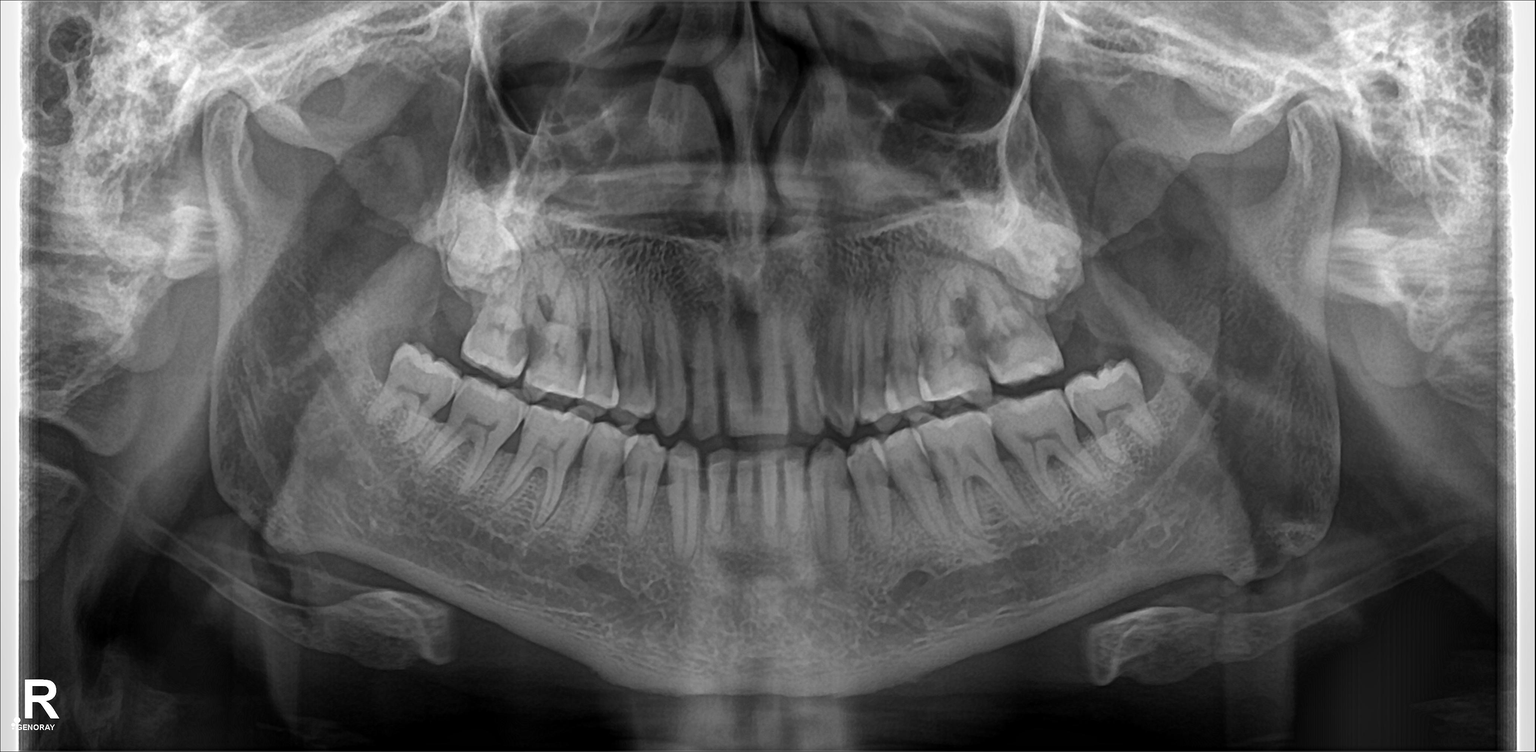Dental Caries: (959, 289, 1012, 361), (501, 328, 554, 368)
Impacted Third Molar: (379, 344, 457, 439), (998, 214, 1085, 295), (449, 214, 518, 289)
Missing Tooth: (1052, 266, 1110, 355)
